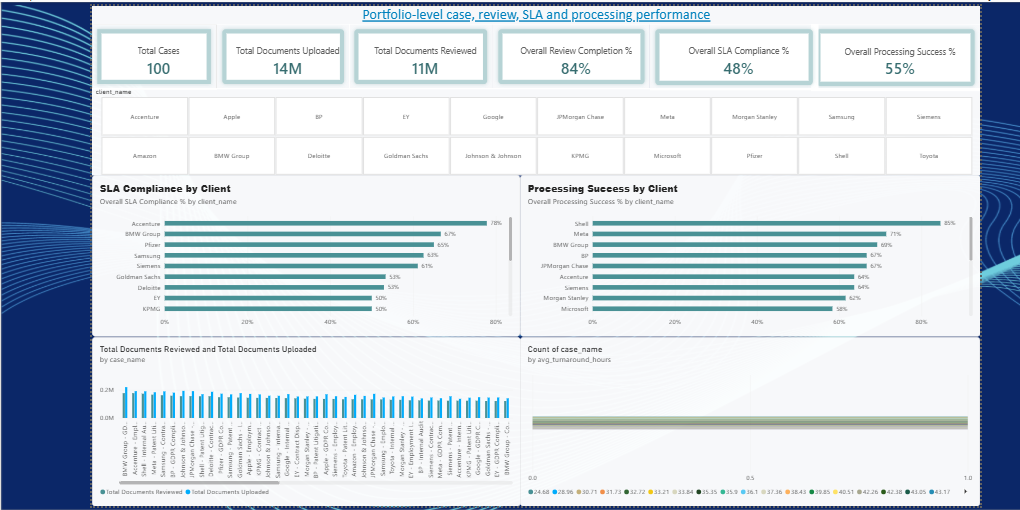

The dashboard page shown, as its layout file describes it:
{"tool":"powerbi","page":{"name":"Executive Overview","canvas":[1920,1080],"ordinal":0},"visuals":[{"type":"cardVisual","fields":{"Data":["Case Summary.Total Cases"]},"box":[0,39.7,268.9,141.1],"z":0},{"type":"cardVisual","fields":{"Data":["Case Summary.Total Documents Reviewed"]},"box":[555.5,39.7,310.8,141.1],"z":1000},{"type":"cardVisual","fields":{"Data":["Case Summary.Total Documents Uploaded"]},"box":[268.9,39.7,286.6,141.1],"z":2000},{"type":"cardVisual","fields":{"Data":["Processing Performance.Overall Processing Success %"]},"box":[1554.1,39.7,365.9,145.5],"z":3000},{"type":"cardVisual","fields":{"Data":["SLA Performance.Overall SLA Compliance %"]},"box":[1205.8,39.7,363.7,143.3],"z":4000},{"type":"cardVisual","fields":{"Data":["Case Summary.Overall Review Completion %"]},"box":[866.3,39.7,339.5,141.1],"z":5000},{"type":"clusteredBarChart","title":"SLA Compliance by Client","fields":{"Category":["SLA Performance.client_name"],"Y":["SLA Performance.Overall SLA Compliance %"]},"box":[0,365.7,924.8,348.7],"z":6000},{"type":"clusteredBarChart","title":"Processing Success by Client","fields":{"Category":["Processing Performance.client_name"],"Y":["Processing Performance.Overall Processing Success %"]},"box":[924.8,365.7,995,348.7],"z":7000},{"type":"slicer","fields":{"Values":["Case Summary.client_name"]},"box":[0,176.5,1919.8,189.2],"z":8000},{"type":"clusteredColumnChart","fields":{"Category":["Case Summary.case_name"],"Y":["Case Summary.Total Documents Reviewed","Case Summary.Total Documents Uploaded"]},"box":[0,714.2,925.8,365.9],"z":9000},{"type":"clusteredBarChart","fields":{"Series":["SLA Performance.avg_turnaround_hours"],"Y":["CountNonNull(SLA Performance.case_name)"]},"box":[924.8,714.3,994.2,365.9],"z":10000},{"type":"textbox","title":"Portfolio-level case, review, SLA and processing performance","box":[0,0,1920,39.7],"z":10001}]}

Visuals, with their boxes on the page's 1920x1080 design canvas (x1, y1, x2, y2). These are canvas units, not pixel positions in the 1020x510 screenshot, which may show the page scaled, cropped or inside an application window:
cardVisual - Case Summary.Total Cases: {"x1": 0, "y1": 40, "x2": 269, "y2": 181}
cardVisual - Case Summary.Total Documents Reviewed: {"x1": 556, "y1": 40, "x2": 866, "y2": 181}
cardVisual - Case Summary.Total Documents Uploaded: {"x1": 269, "y1": 40, "x2": 556, "y2": 181}
cardVisual - Processing Performance.Overall Processing Success %: {"x1": 1554, "y1": 40, "x2": 1920, "y2": 185}
cardVisual - SLA Performance.Overall SLA Compliance %: {"x1": 1206, "y1": 40, "x2": 1570, "y2": 183}
cardVisual - Case Summary.Overall Review Completion %: {"x1": 866, "y1": 40, "x2": 1206, "y2": 181}
"SLA Compliance by Client" clusteredBarChart: {"x1": 0, "y1": 366, "x2": 925, "y2": 714}
"Processing Success by Client" clusteredBarChart: {"x1": 925, "y1": 366, "x2": 1920, "y2": 714}
slicer - Case Summary.client_name: {"x1": 0, "y1": 176, "x2": 1920, "y2": 366}
clusteredColumnChart - Case Summary.case_name x Case Summary.Total Documents Reviewed: {"x1": 0, "y1": 714, "x2": 926, "y2": 1080}
clusteredBarChart - SLA Performance.avg_turnaround_hours x CountNonNull(SLA Performance.case_name): {"x1": 925, "y1": 714, "x2": 1919, "y2": 1080}
"Portfolio-level case, review, SLA and processing performance" textbox: {"x1": 0, "y1": 0, "x2": 1920, "y2": 40}
